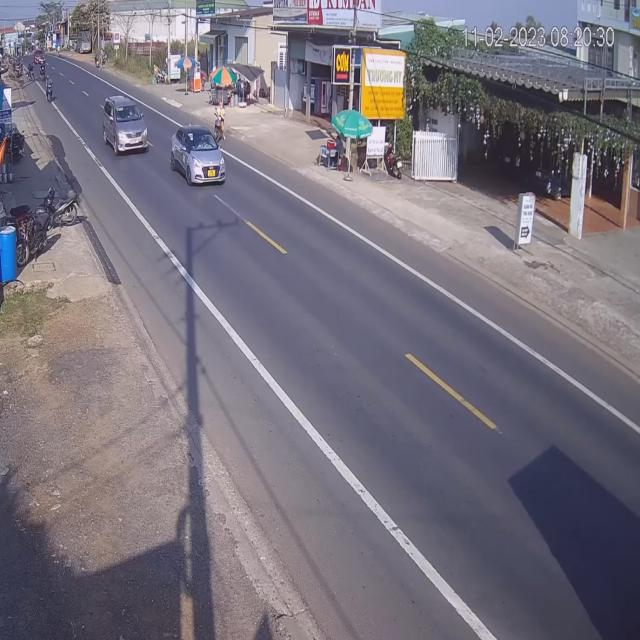car: (172, 124, 228, 187), (104, 92, 149, 155)
motorbike: (214, 102, 226, 144)
